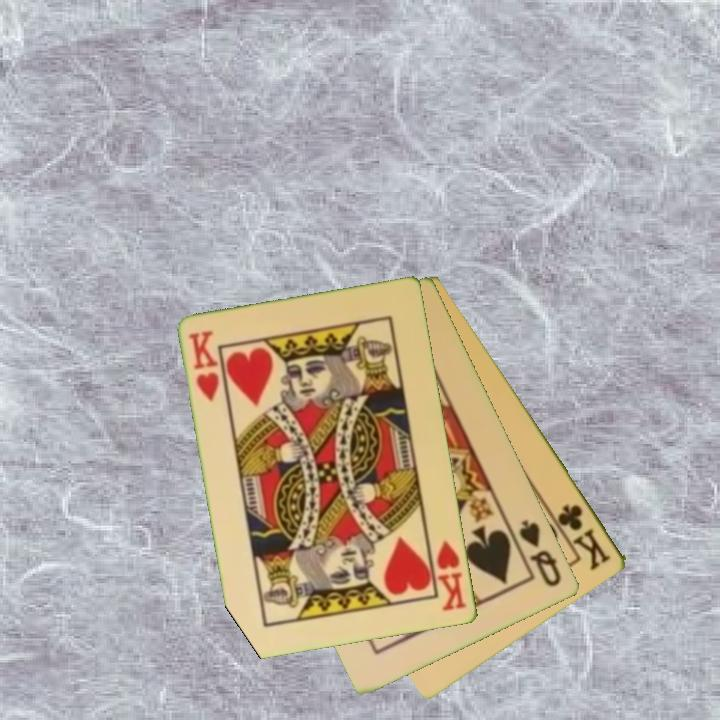Kc: (554, 500, 615, 573)
Kh: (425, 534, 470, 614), (185, 327, 223, 405)
Qs: (516, 515, 565, 590)
